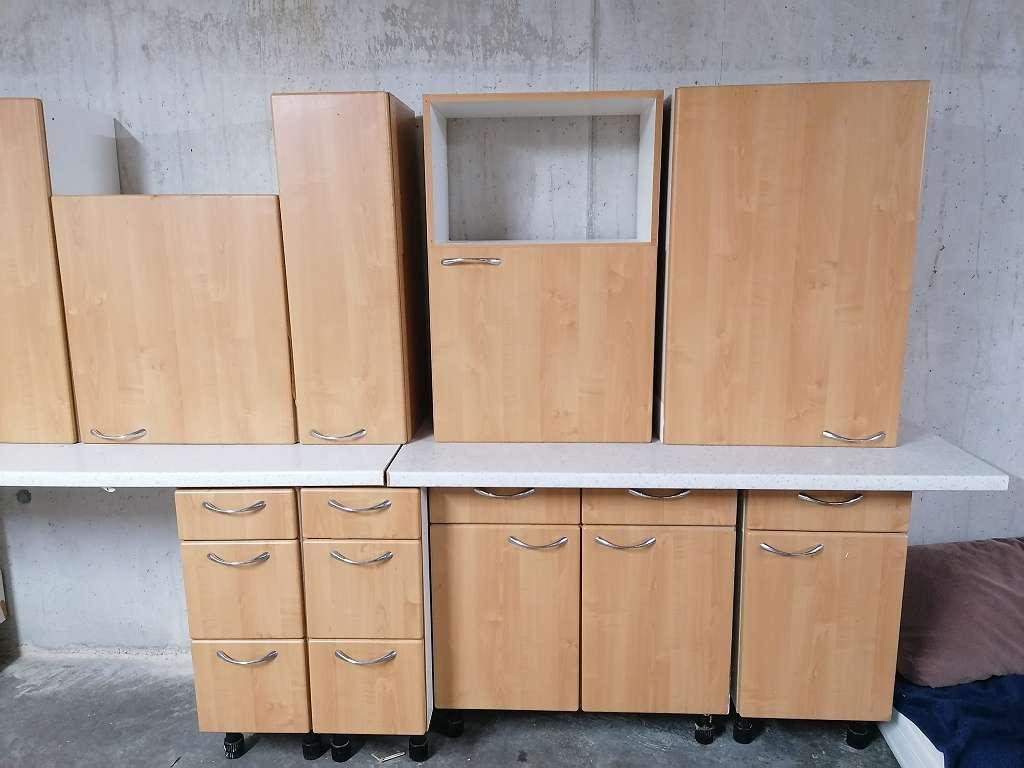cabinet_door: (669, 90, 906, 447), (423, 97, 658, 444), (57, 196, 279, 443), (279, 94, 402, 442), (744, 539, 904, 725), (582, 531, 735, 716), (427, 531, 575, 713), (0, 98, 59, 443), (300, 545, 421, 641), (182, 547, 301, 641), (308, 644, 422, 733), (196, 644, 308, 731), (746, 494, 910, 532), (299, 487, 418, 537), (176, 490, 295, 539), (581, 489, 734, 526), (427, 488, 577, 524)
handle: (326, 547, 400, 568), (214, 647, 284, 668), (758, 541, 829, 561), (504, 534, 570, 555), (332, 647, 401, 667), (206, 550, 274, 570), (200, 499, 271, 518), (794, 492, 864, 511), (441, 251, 504, 272), (592, 534, 658, 554), (822, 426, 890, 445), (327, 498, 394, 517), (86, 426, 148, 442), (307, 426, 369, 442), (629, 488, 688, 504), (474, 488, 534, 503)
